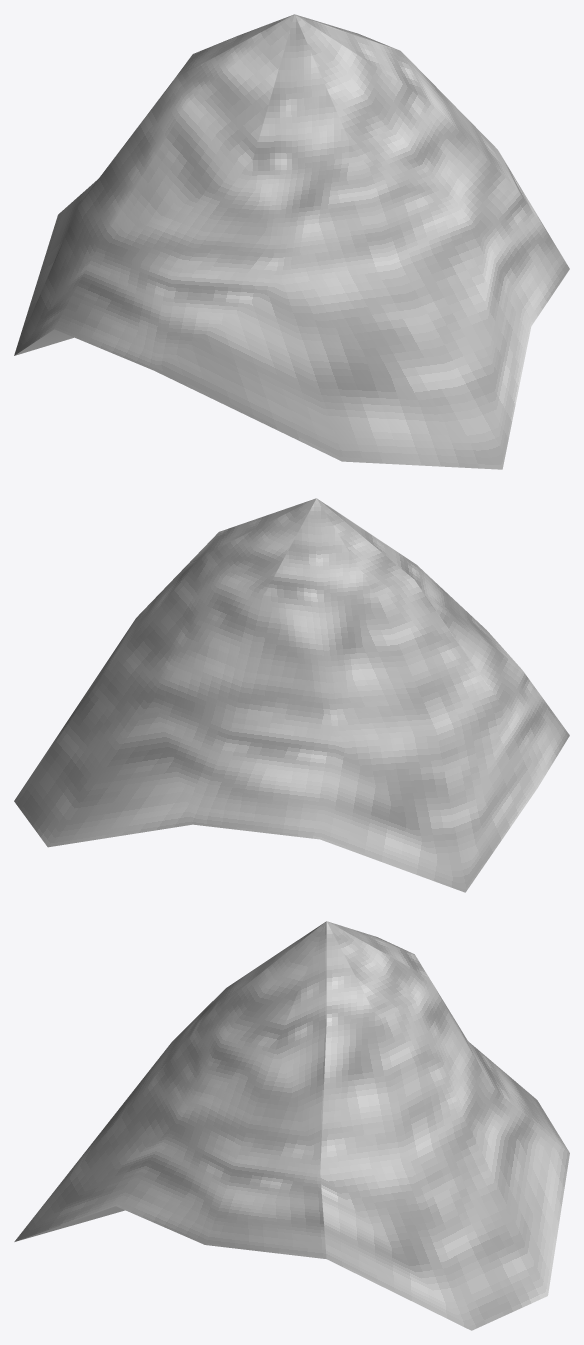
Rendered from chocopaste.obj.
The picture shows the model from 3 angles, top to bottom: view 1: azimuth 30°, elevation 25°; view 2: azimuth 150°, elevation 25°; view 3: azimuth 270°, elevation 25°; orthographic projection. The views are drawn at different scales.
Visible parts, largest first — view 1: Cylinder01; view 2: Cylinder01; view 3: Cylinder01.
Part boxes in pixels (x1,y1,x2,y2): Cylinder01: [14, 14, 569, 469]; Cylinder01: [14, 498, 569, 892]; Cylinder01: [14, 921, 569, 1330].
Bounding box in the file's own units: 20.46 × 13.5 × 22.26.
